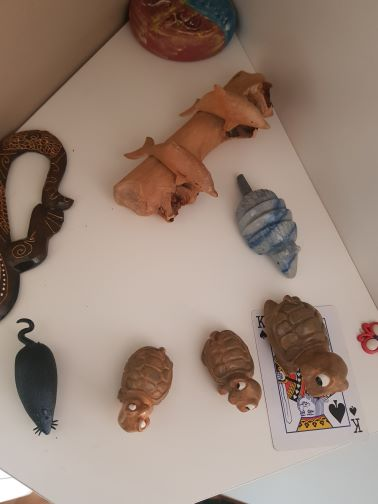king: (250, 304, 369, 450)
